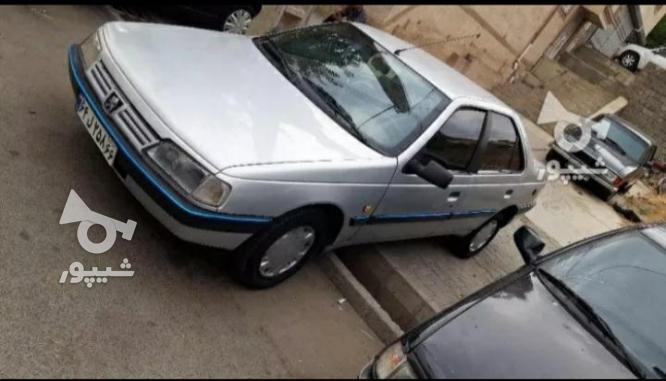car: (74, 95, 119, 166)
